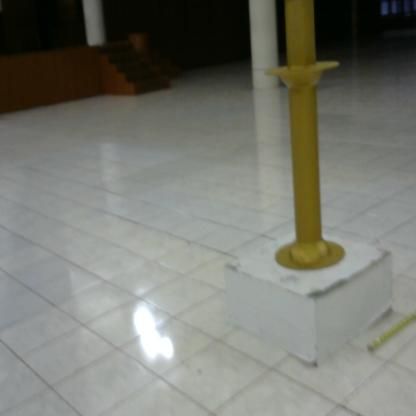pole: (261, 1, 352, 280)
